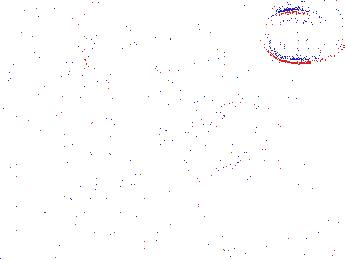moon jellyfish: (160, 101, 271, 174), (83, 1, 157, 102), (155, 1, 238, 74), (257, 10, 346, 64)
